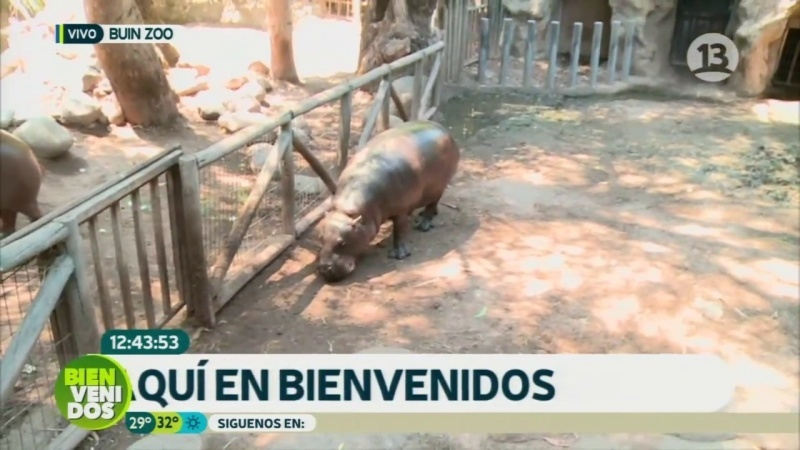hipopotamo: (309, 116, 482, 292)
